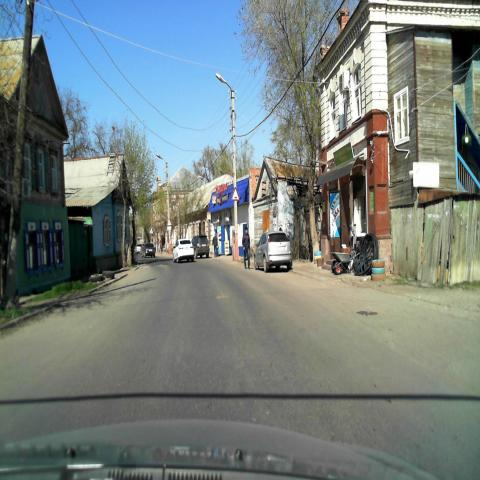1_17: (230, 187, 240, 201)
